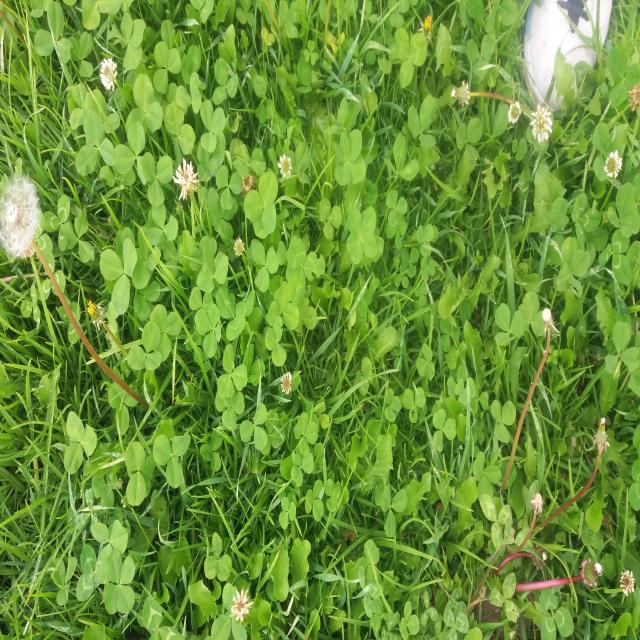Four Leaf Clover: (333, 128, 366, 186), (345, 205, 377, 264), (194, 303, 222, 358)
